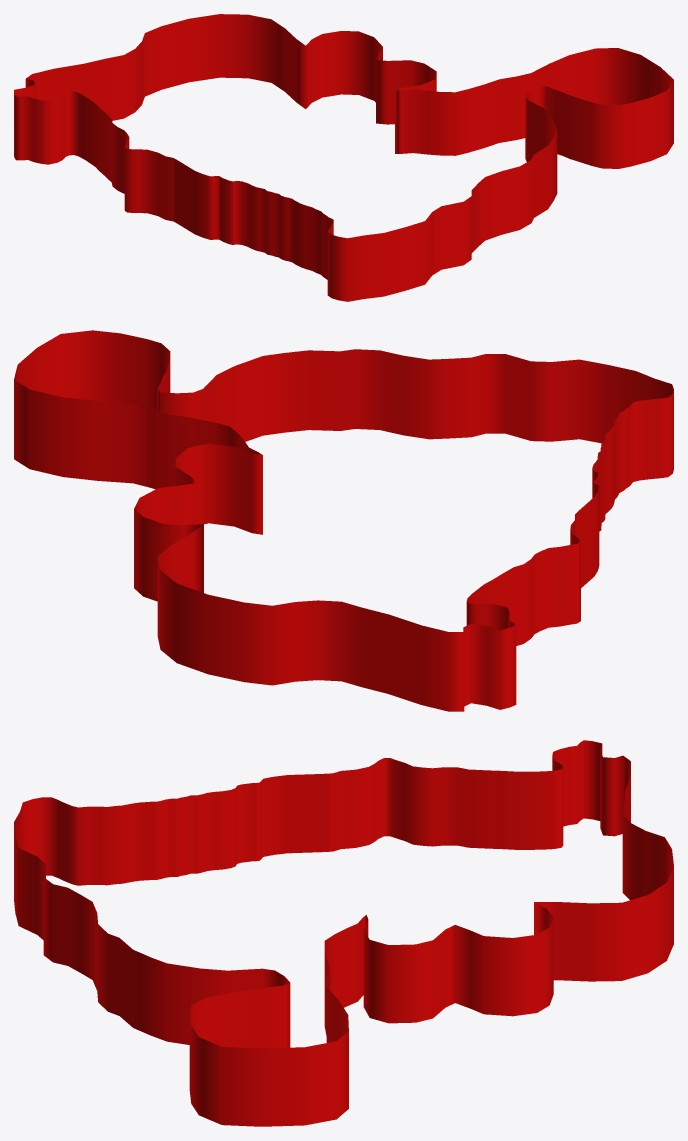
File: level_end_collision.fbx
3 views of the same model, one above another, from view 1: azimuth 30°, elevation 25°; view 2: azimuth 150°, elevation 25°; view 3: azimuth 270°, elevation 25° (orthographic). The views are drawn at different scales.
Parts seen in each view (by area): view 1: Mesh; view 2: Mesh; view 3: Mesh.
Boxes of the visible parts, box(x1,y1,x2,y2) form: Mesh: box(14, 14, 673, 301); Mesh: box(14, 330, 673, 711); Mesh: box(14, 740, 673, 1126).
Bounding box in the file's own units: 262207 × 31034 × 237164.
